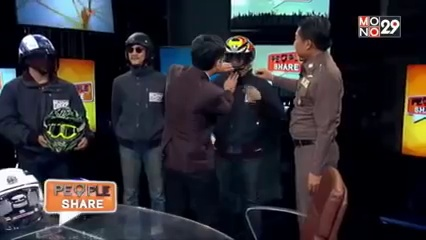helmet: (0, 162, 42, 226), (43, 103, 85, 149), (17, 31, 60, 75), (222, 32, 256, 76), (123, 29, 155, 62)
